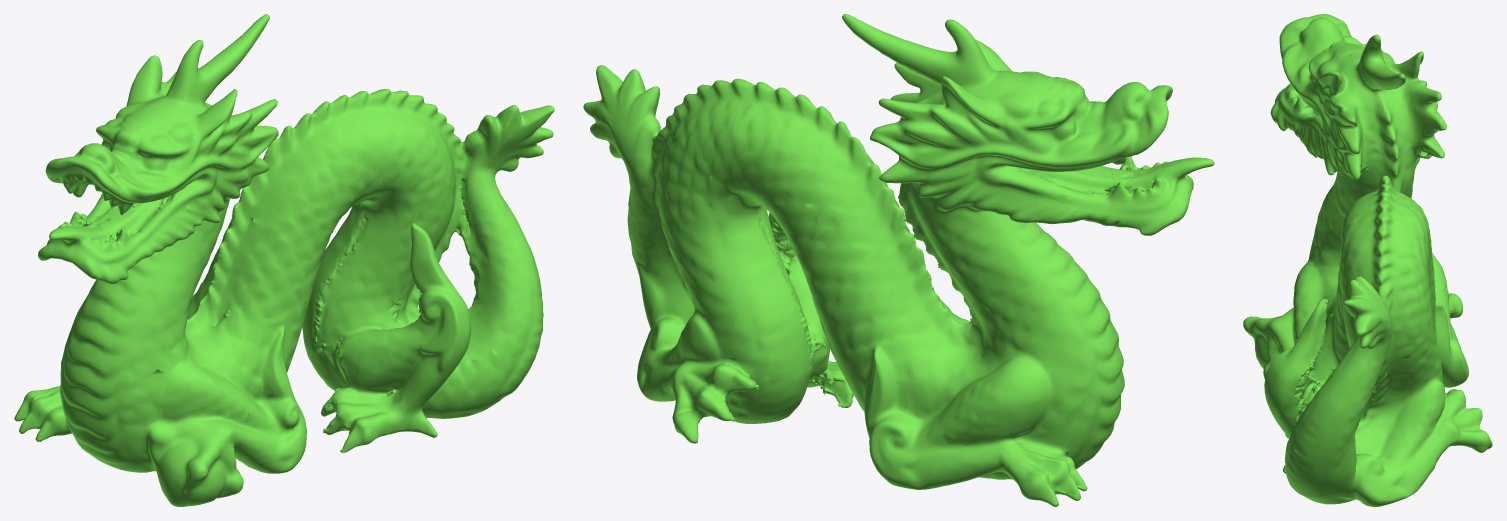
File: transparency_dragon.glb
The picture shows the model from 3 angles, left to right: view 1: azimuth 30°, elevation 25°; view 2: azimuth 150°, elevation 25°; view 3: azimuth 270°, elevation 25°; orthographic projection. The views are drawn at different scales.
Parts seen in each view (by area): view 1: model; view 2: model; view 3: model.
Boxes of the visible parts, bbox=[...] form: model: bbox=[14, 14, 554, 506]; model: bbox=[583, 14, 1214, 506]; model: bbox=[1243, 14, 1492, 506].
Size of the model in its own units: 0.1 by 0.0724 by 0.0452.
